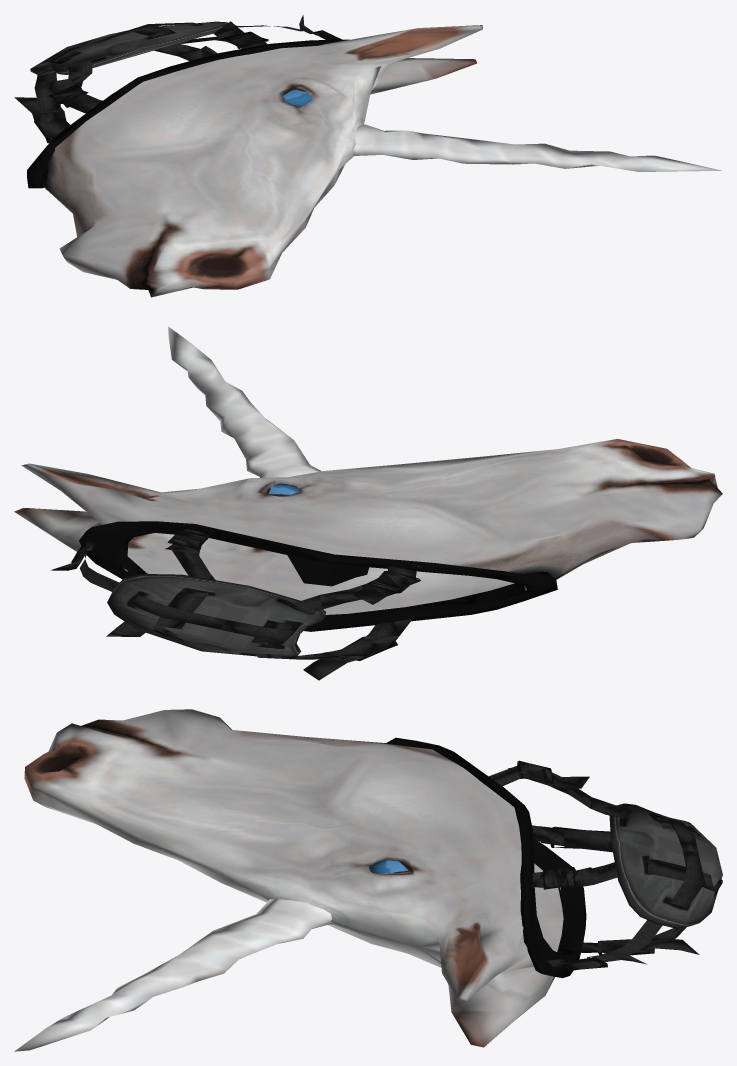
File: UnicornMask_Ground.fbx
The picture shows the model from 3 angles, top to bottom: view 1: azimuth 30°, elevation 25°; view 2: azimuth 150°, elevation 25°; view 3: azimuth 270°, elevation 25°; orthographic projection. The views are drawn at different scales.
Visible parts, largest first — view 1: UnicornMask.001; view 2: UnicornMask.001; view 3: UnicornMask.001.
Part boxes in pixels (x1=…): UnicornMask.001: x1=14, y1=15, x2=721, y2=297; UnicornMask.001: x1=14, y1=326, x2=722, y2=680; UnicornMask.001: x1=14, y1=709, x2=722, y2=1051.
Size of the model in its own units: 0.2451 by 0.024 by 0.2164.
